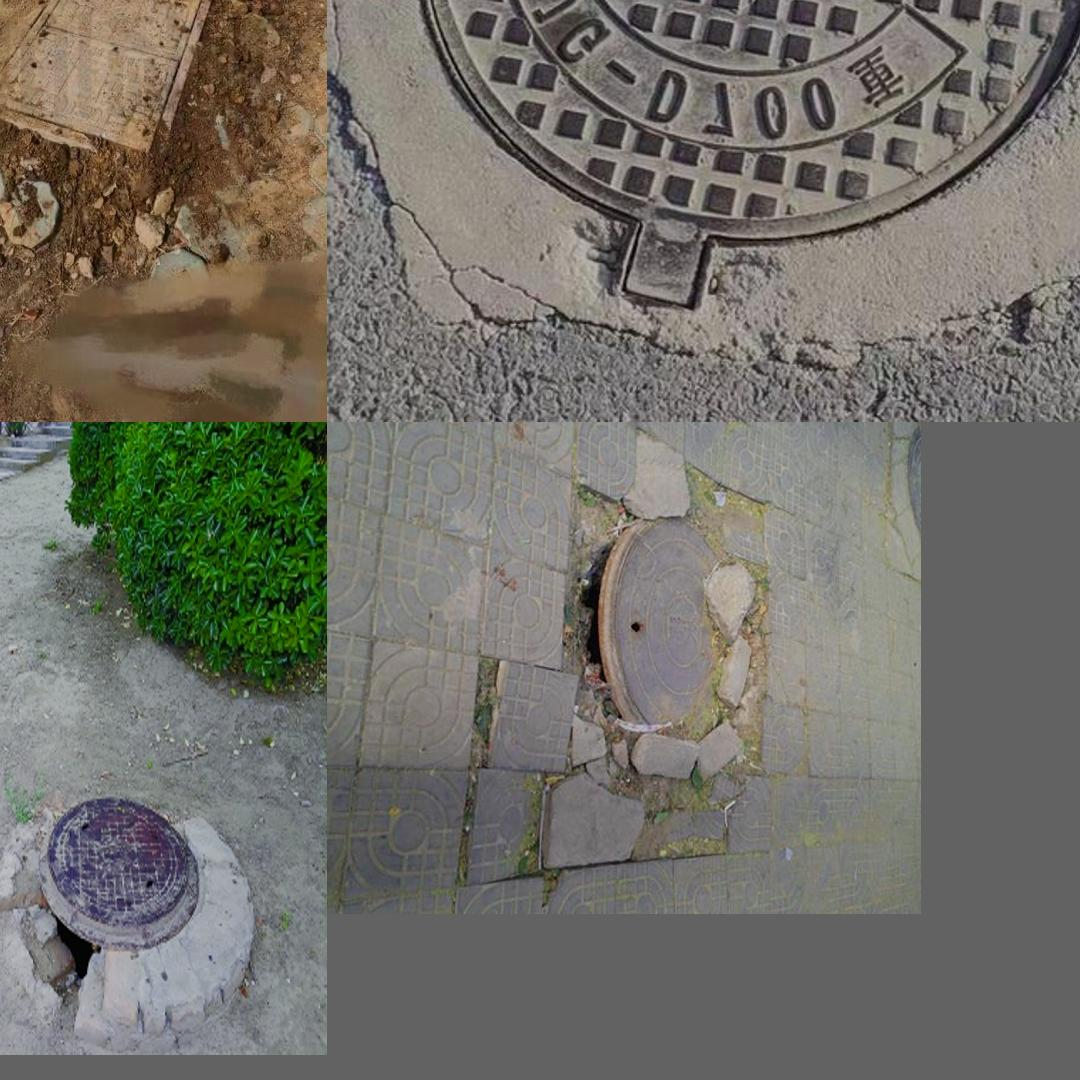circle: (355, 0, 1080, 345), (539, 484, 772, 873), (0, 788, 261, 1025), (0, 0, 234, 189)
